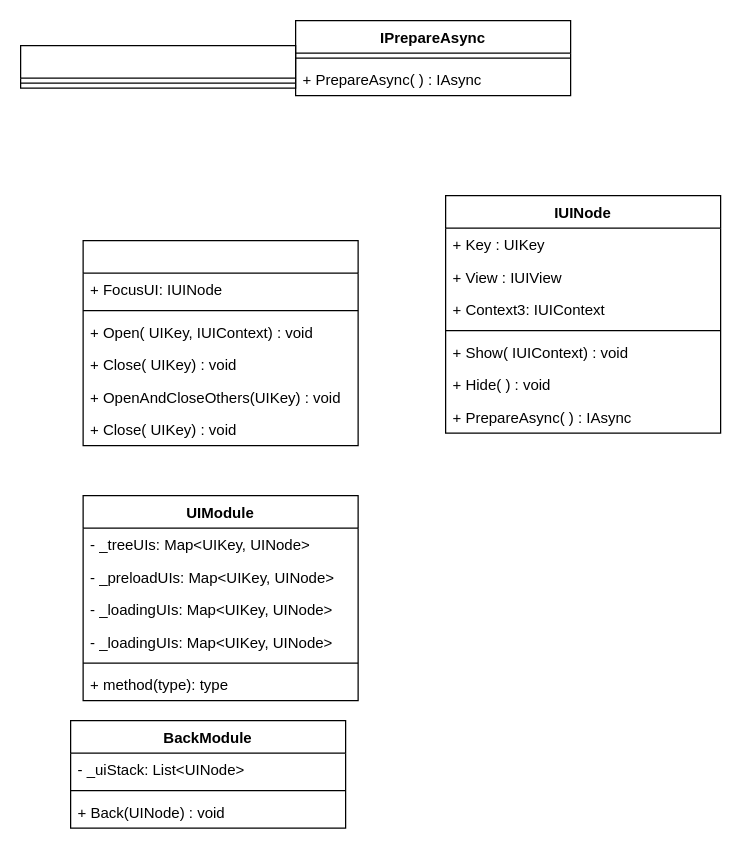
The diagram is 741 pixels wide and 849 high, and some of its shapes have lost their labels. The box of each missing label's shape, as (x1, y1, x2, y2) in pixels:
IUIContext: (19, 44, 296, 88)
IUIModule: (82, 239, 358, 446)
